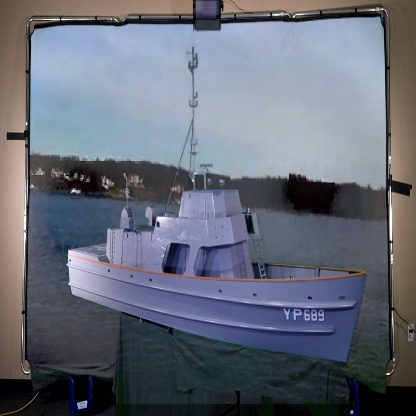YP689: (68, 43, 369, 367)
